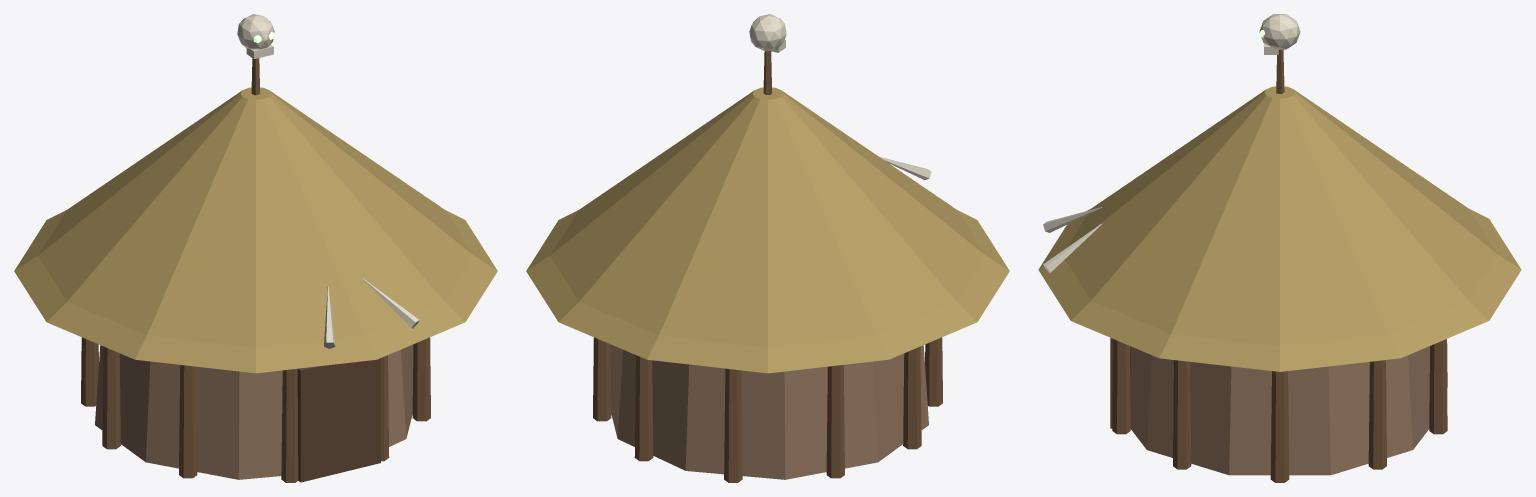
The model's file is goblin_hut.glb.
3 views of the same model, side by side, from view 1: azimuth 30°, elevation 25°; view 2: azimuth 150°, elevation 25°; view 3: azimuth 270°, elevation 25° (orthographic).
Visible parts, largest first — view 1: goblin_hut; view 2: goblin_hut; view 3: goblin_hut.
Boxes of the visible parts, left/top/right/bottom form: goblin_hut: left=14, top=14, right=497, bottom=482; goblin_hut: left=526, top=14, right=1009, bottom=482; goblin_hut: left=1038, top=14, right=1521, bottom=482.
Size of the model in its own units: 4.7 by 4.23 by 4.7.
